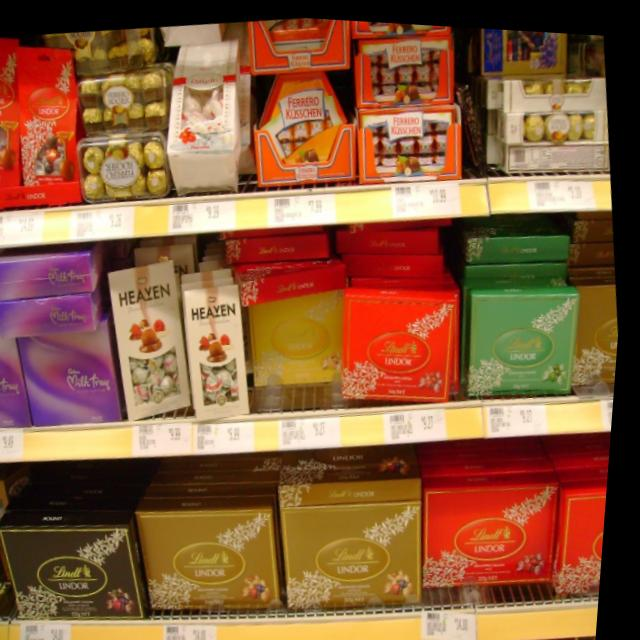q112: (277, 472, 442, 627), (146, 494, 298, 633)
q115: (0, 495, 160, 634)
